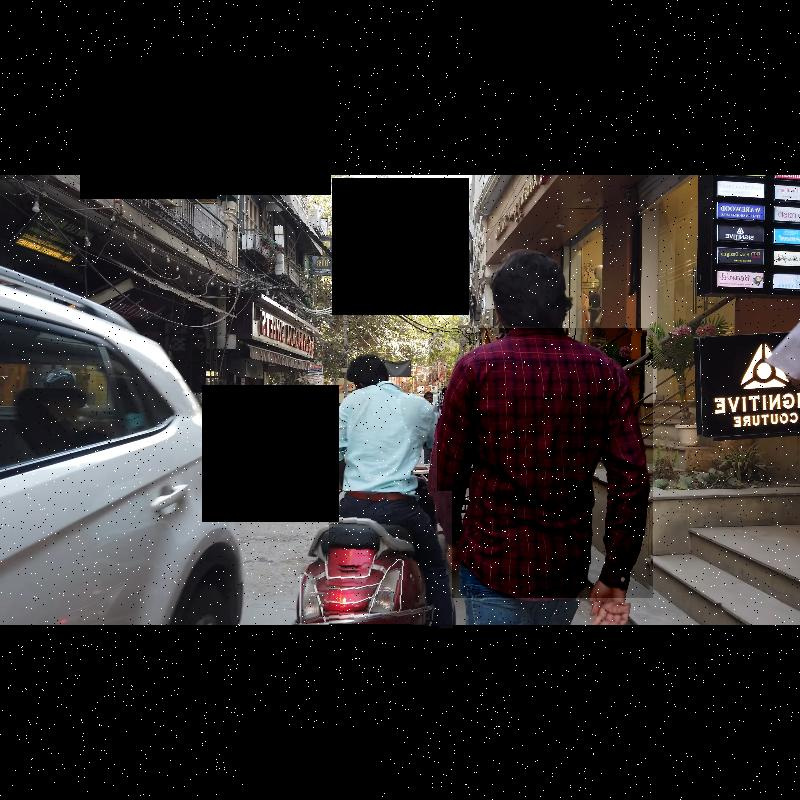Pant: (329, 491, 451, 627)
shirt: (429, 329, 653, 598), (324, 383, 437, 494)
